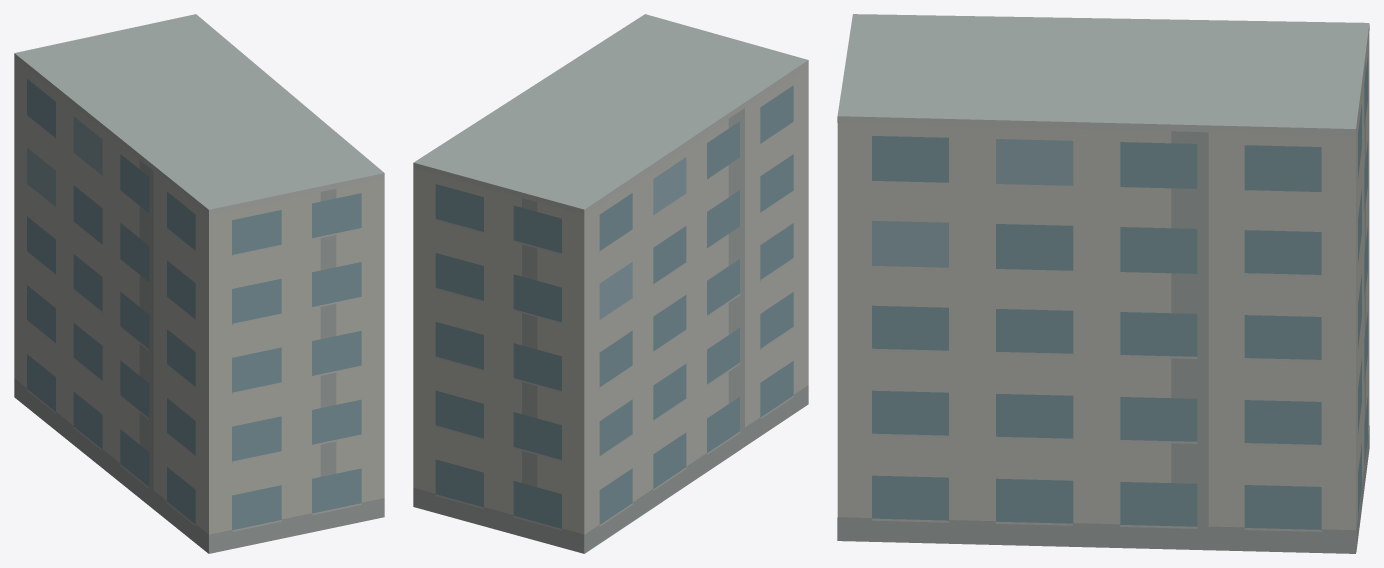
The model's file is survey-upis-32760150.glb.
3 renders of one model, left to right at view 1: azimuth 30°, elevation 25°; view 2: azimuth 150°, elevation 25°; view 3: azimuth 270°, elevation 25°, orthographic. The views are drawn at different scales.
Parts seen in each view (by area): view 1: survey-upis-32760150.tmp; view 2: survey-upis-32760150.tmp; view 3: survey-upis-32760150.tmp.
Boxes of the visible parts, x1,y1,x2,y2 form: survey-upis-32760150.tmp: (14, 14, 384, 553); survey-upis-32760150.tmp: (413, 14, 808, 553); survey-upis-32760150.tmp: (837, 14, 1369, 553).
Bounding box in the file's own units: 8.75 × 15.05 × 17.09.
